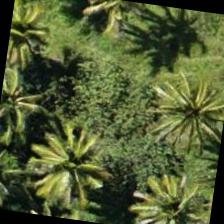Kelapa_Sawit: (20, 119, 122, 221), (145, 61, 223, 161), (127, 146, 220, 223), (4, 0, 76, 83), (0, 58, 60, 156), (62, 0, 159, 53)
